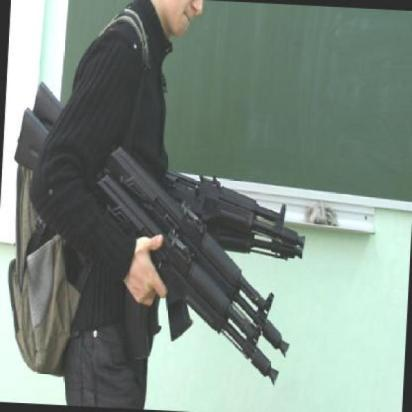Gun: (2, 111, 290, 382), (21, 76, 312, 291)
